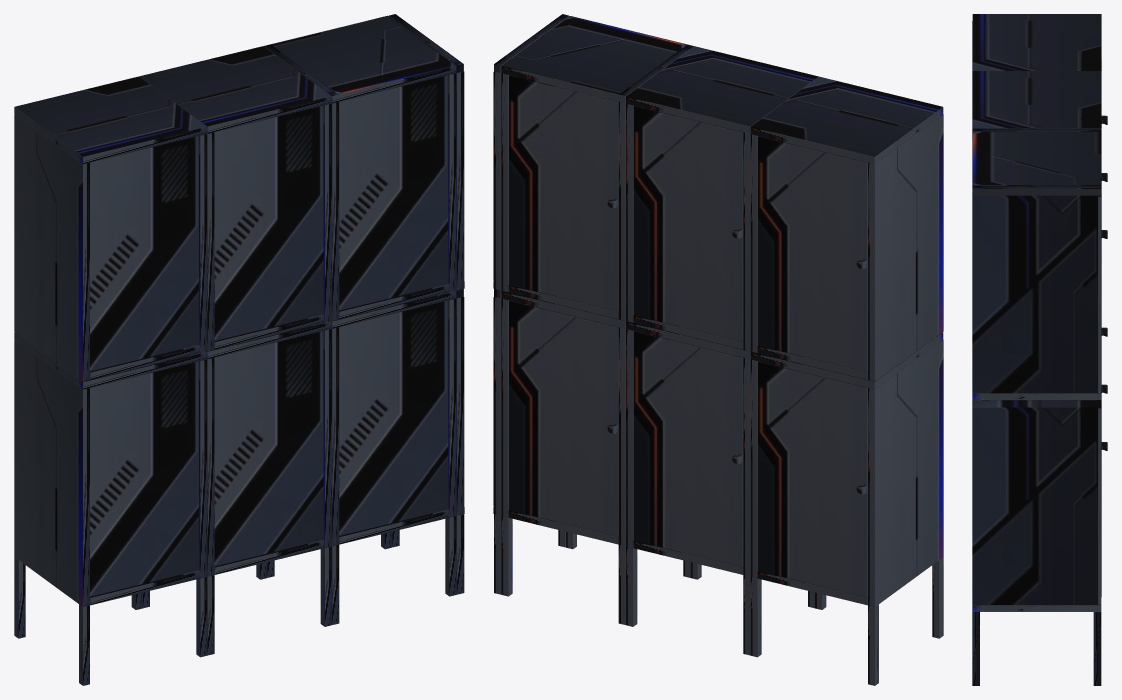
The model's file is dolap1.fbx.
The picture shows the model from 3 angles, left to right: view 1: azimuth 30°, elevation 25°; view 2: azimuth 150°, elevation 25°; view 3: azimuth 270°, elevation 25°; orthographic projection. The views are drawn at different scales.
Parts seen in each view (by area): view 1: lixhurt; view 2: lixhurt; view 3: lixhurt.
Part boxes in pixels (x1,y1,x2,y2): lixhurt: (14,14,464,685); lixhurt: (493,14,943,685); lixhurt: (972,14,1107,685).
Bounding box in the file's own units: 107 × 142 × 35.
1 material, 1 textured.
